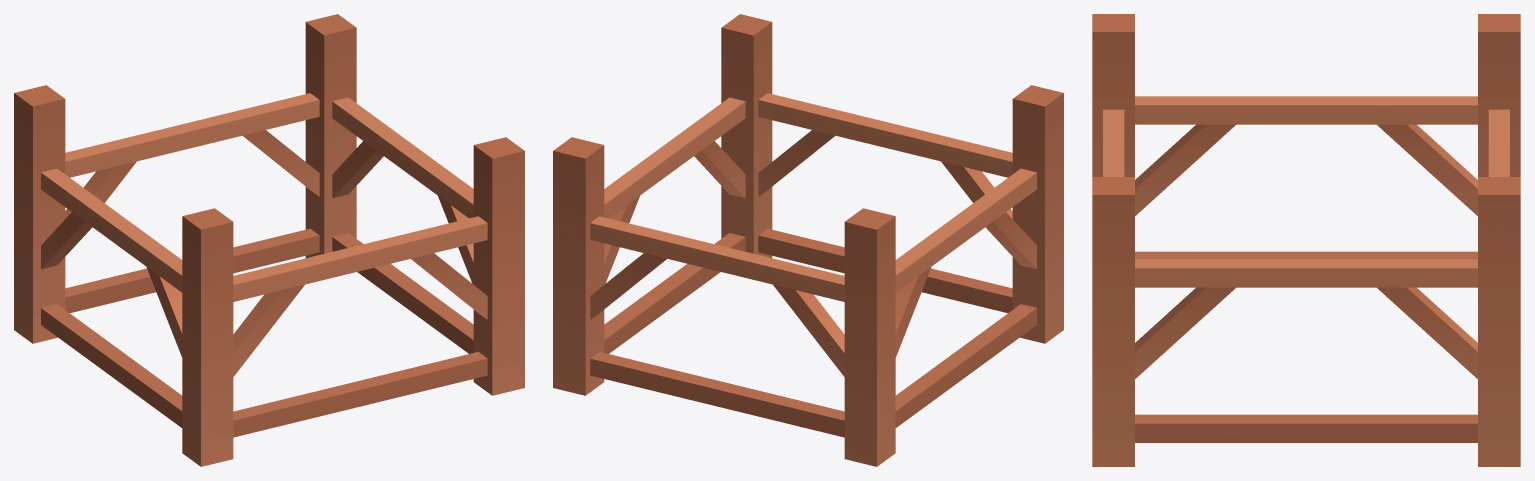
File: structure-wood-transformed.glb
3 renders of one model, left to right at view 1: azimuth 30°, elevation 25°; view 2: azimuth 150°, elevation 25°; view 3: azimuth 270°, elevation 25°, orthographic. The views are drawn at different scales.
Visible parts, largest first — view 1: structure-wood; view 2: structure-wood; view 3: structure-wood.
Part boxes in pixels (box(x1,y1,x2,y2)): structure-wood: box(14, 14, 524, 466); structure-wood: box(553, 14, 1063, 466); structure-wood: box(1092, 14, 1520, 466).
Size of the model in its own units: 1 by 0.7 by 1.
1 material, 1 textured.
